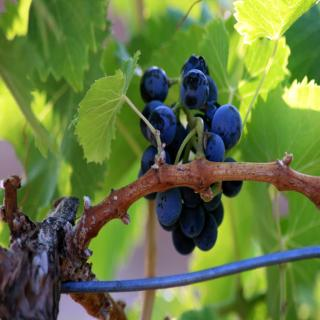Grape: (137, 55, 243, 257)
